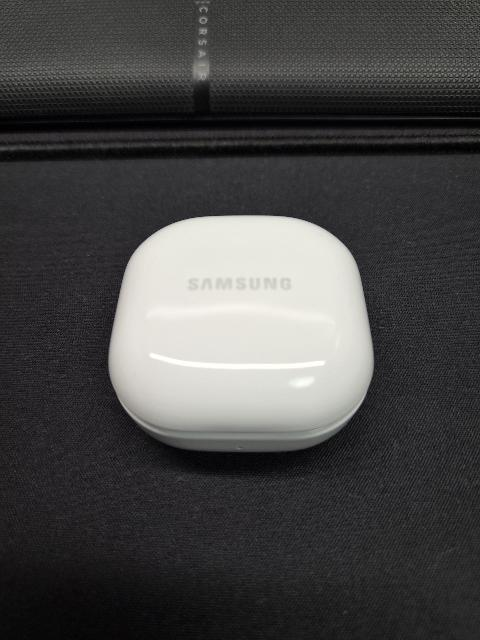earphone_case: (108, 216, 373, 452)
